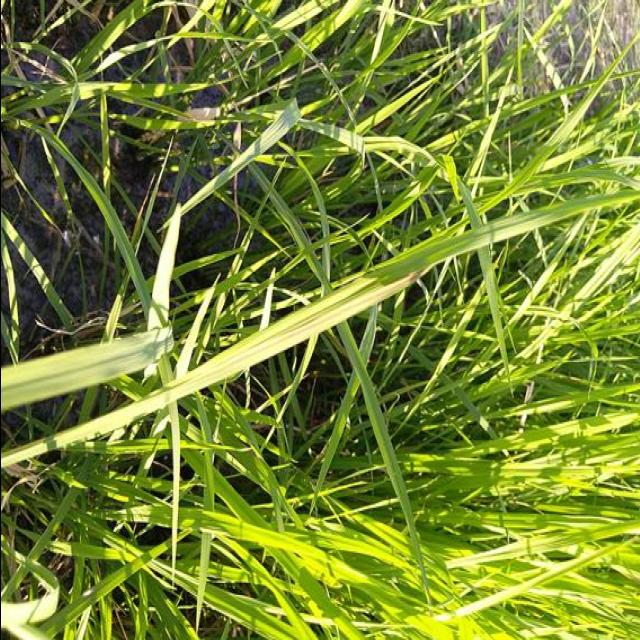Leaf Blight: (267, 266, 427, 343)
